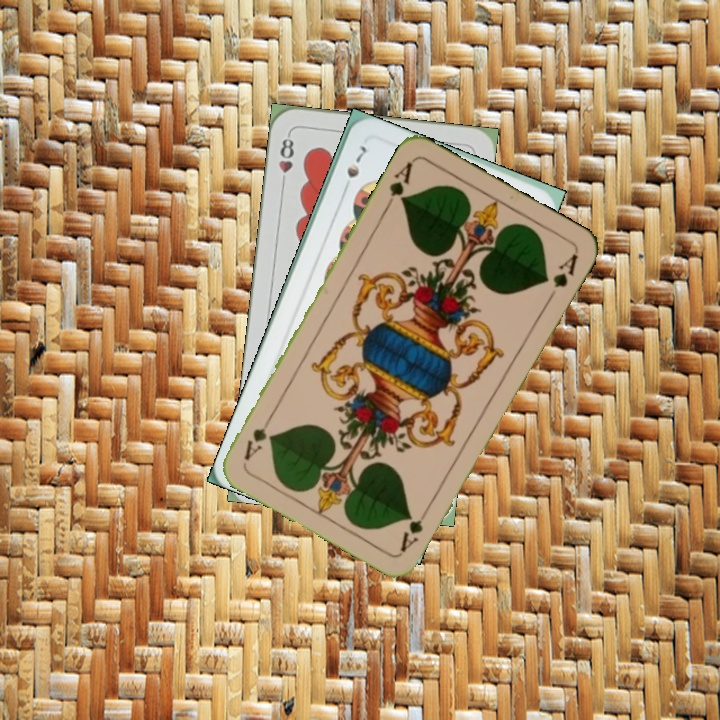GA: (396, 501, 433, 555), (381, 158, 416, 212)
H8: (275, 130, 297, 189)
S7: (339, 141, 370, 195)
